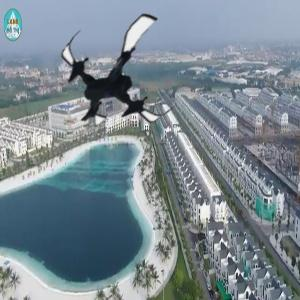drone: (57, 8, 188, 139)
